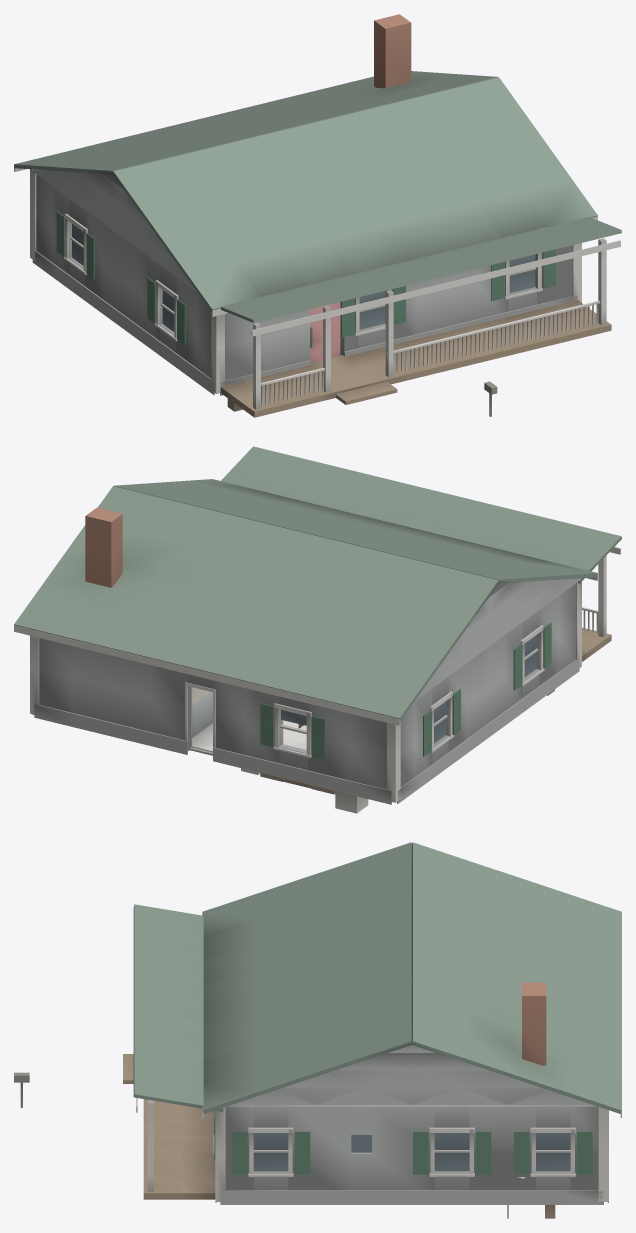
Rendered from casa_us_10.glb.
The picture shows the model from 3 angles, top to bottom: view 1: azimuth 30°, elevation 25°; view 2: azimuth 150°, elevation 25°; view 3: azimuth 270°, elevation 25°; orthographic projection. The views are drawn at different scales.
Visible parts, largest first — view 1: longe, ext, detalhe, dentro; view 2: longe, ext, detalhe, dentro, geladeira_cozinha4; view 3: longe, ext, detalhe.
Boxes of the visible parts, x1,y1,x2,y2 form: longe: [14, 71, 621, 417]; ext: [30, 14, 581, 395]; detalhe: [56, 211, 555, 416]; dentro: [310, 302, 340, 362]; longe: [14, 446, 621, 725]; ext: [30, 507, 581, 804]; detalhe: [185, 622, 551, 759]; dentro: [189, 687, 306, 755]; geladeira_cozinha4: [335, 791, 368, 813]; longe: [133, 842, 621, 1199]; ext: [215, 982, 608, 1204]; detalhe: [14, 1054, 592, 1176].
Size of what is drawn, in the model's own units: 13.5 by 7.04 by 17.45.
